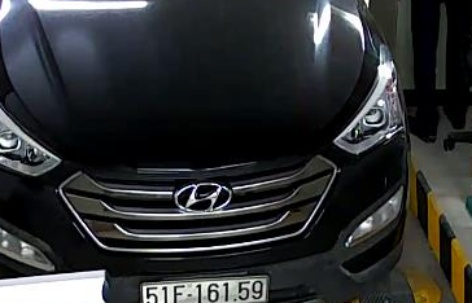plate: (137, 278, 272, 303)
